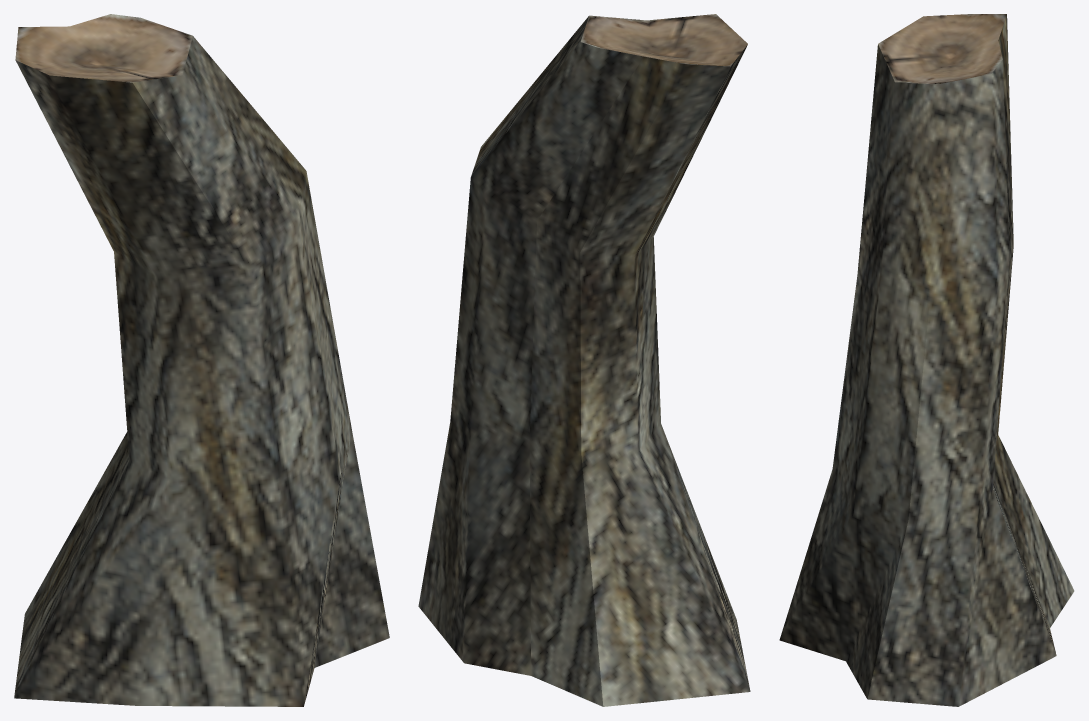
The model's file is Pen_4.fbx.
3 renders of one model, left to right at view 1: azimuth 30°, elevation 25°; view 2: azimuth 150°, elevation 25°; view 3: azimuth 270°, elevation 25°, orthographic. The views are drawn at different scales.
Parts seen in each view (by area): view 1: Detal332; view 2: Detal332; view 3: Detal332.
Boxes of the visible parts, <box> form: Detal332: <box>14,14,389,706</box>; Detal332: <box>418,14,750,706</box>; Detal332: <box>779,14,1074,706</box>.
Size of the model in its own units: 546 by 1017 by 476.
